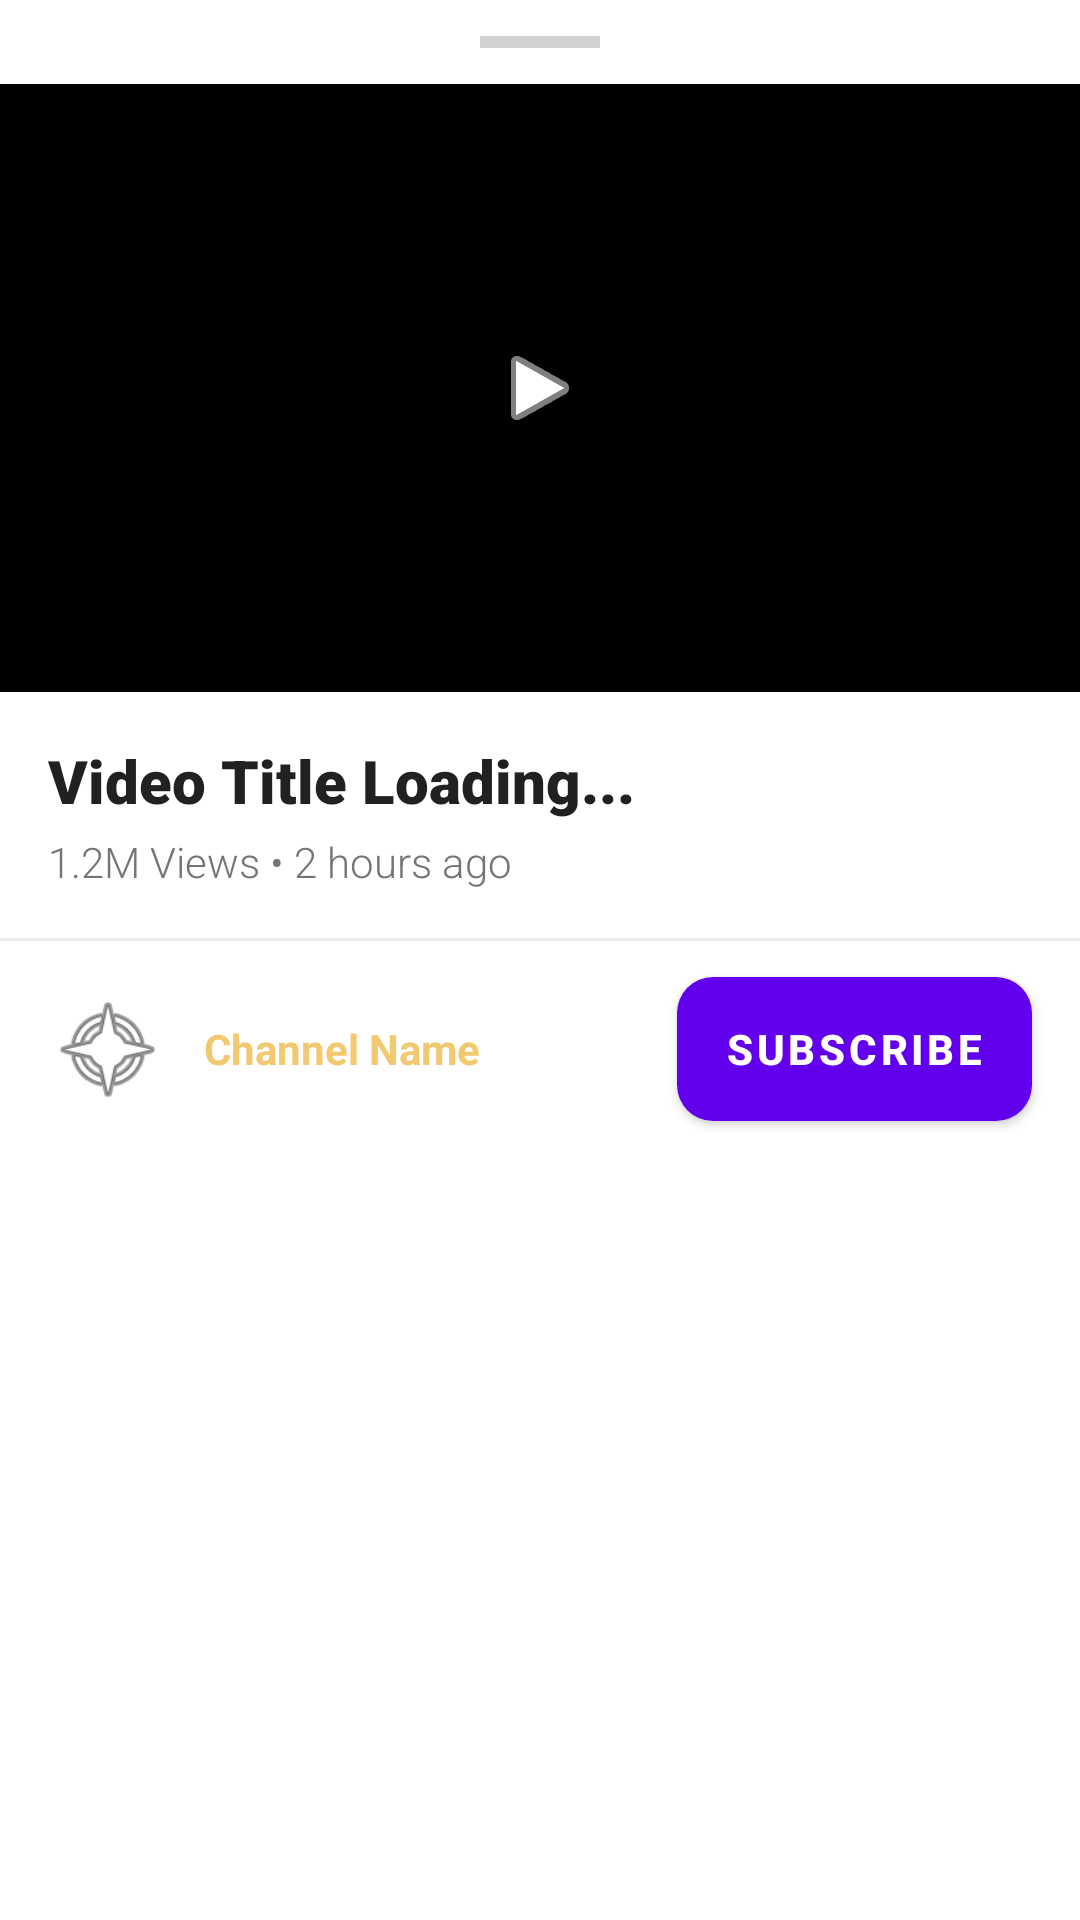

Locate icon controls on the screen. Image size 1080×1920, boxes as (x1, y1, x2, y2).
compass: (60, 1002, 155, 1097)
play: (511, 356, 569, 420)
